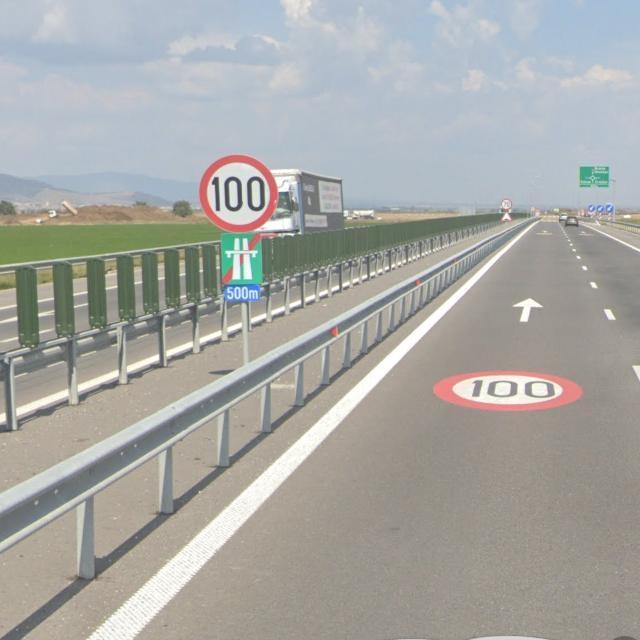forb_speed_over_100: (198, 154, 280, 233), (436, 368, 582, 411)
